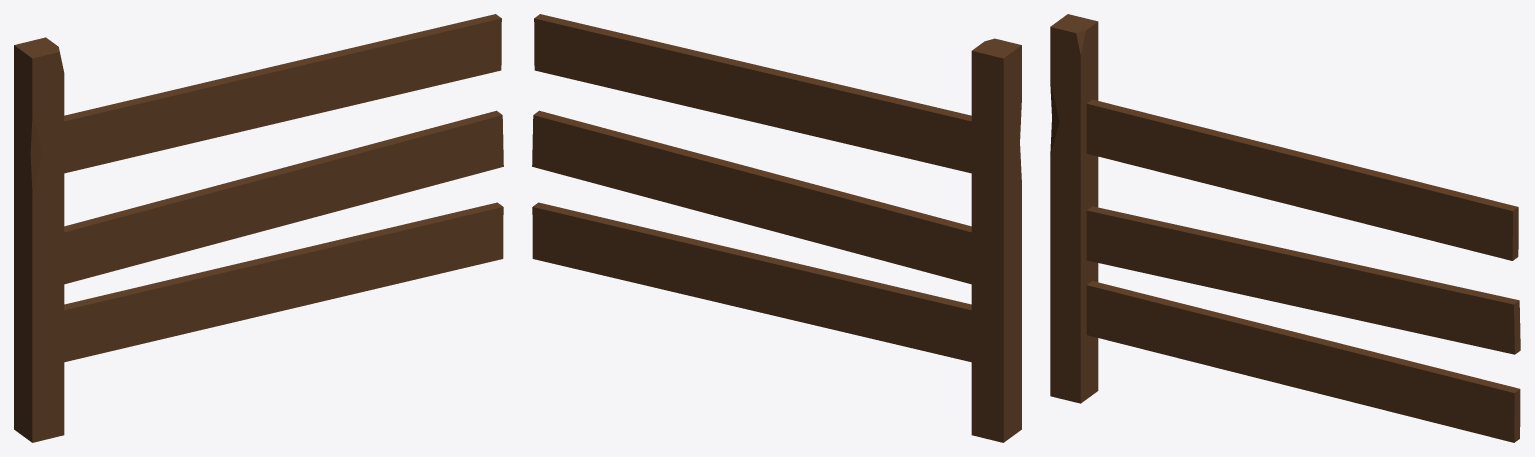
Rendered from fence06.fbx.
The picture shows the model from 3 angles, left to right: view 1: azimuth 30°, elevation 25°; view 2: azimuth 150°, elevation 25°; view 3: azimuth 330°, elevation 25°; orthographic projection. The views are drawn at different scales.
Visible parts, largest first — view 1: fence06; view 2: fence06; view 3: fence06.
Part boxes in pixels (<box>): fence06: <box>14,14,503,442</box>; fence06: <box>532,14,1021,442</box>; fence06: <box>1050,14,1520,442</box>.
Bounding box in the file's own units: 203 × 156 × 13.52.
